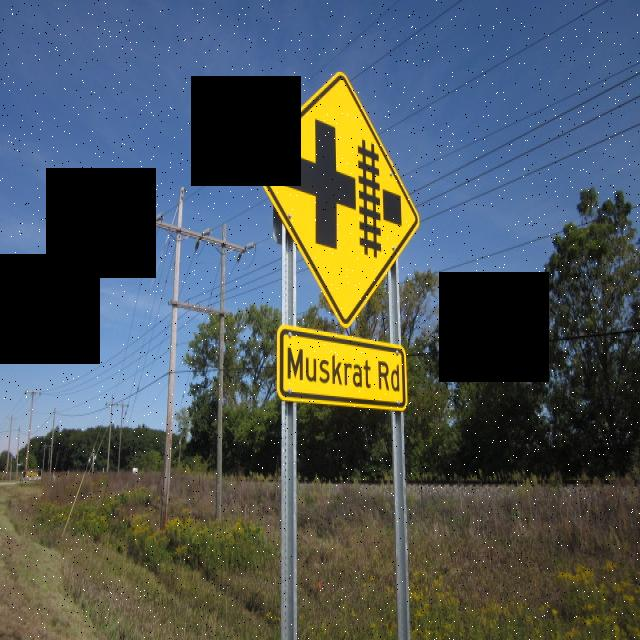warning: (247, 69, 422, 332), (273, 318, 417, 418)
